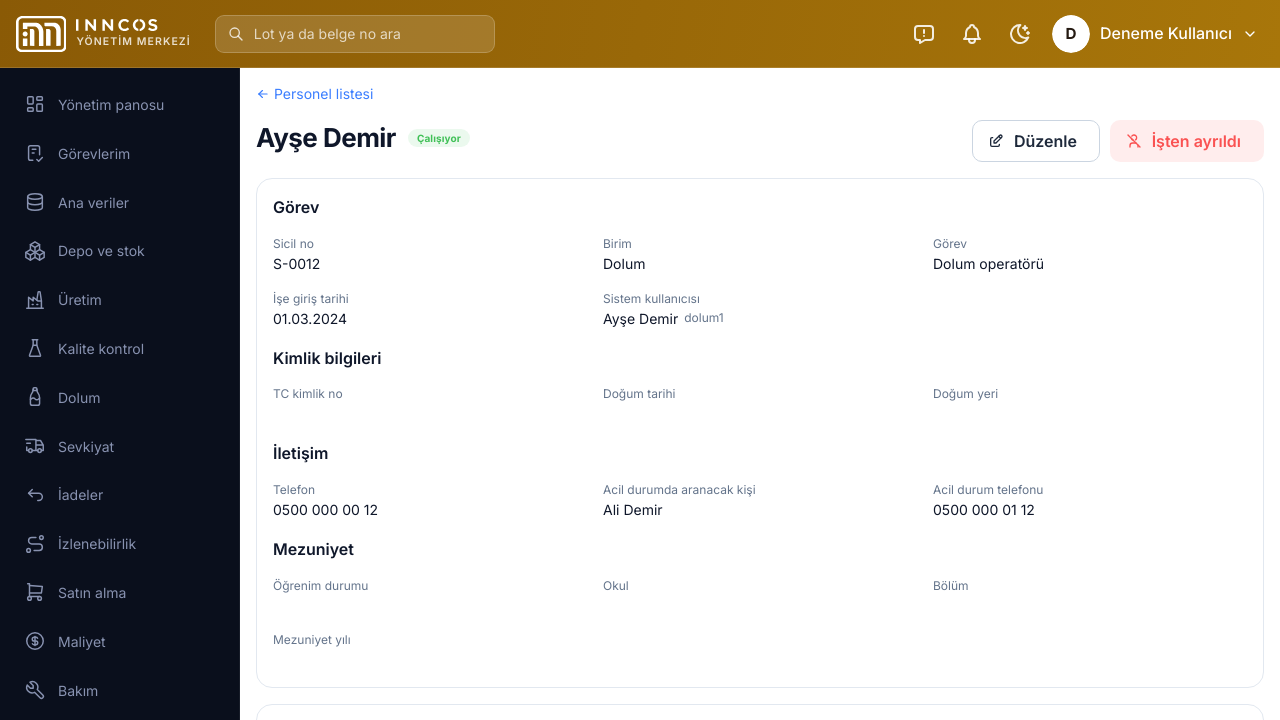
Scenario: personel kartı › işten ayrılışı kaydeder ve açık hesabı hatırlatır
Click the button "İşten ayrıldı" at (1187, 141), box [1110,120,1264,162]
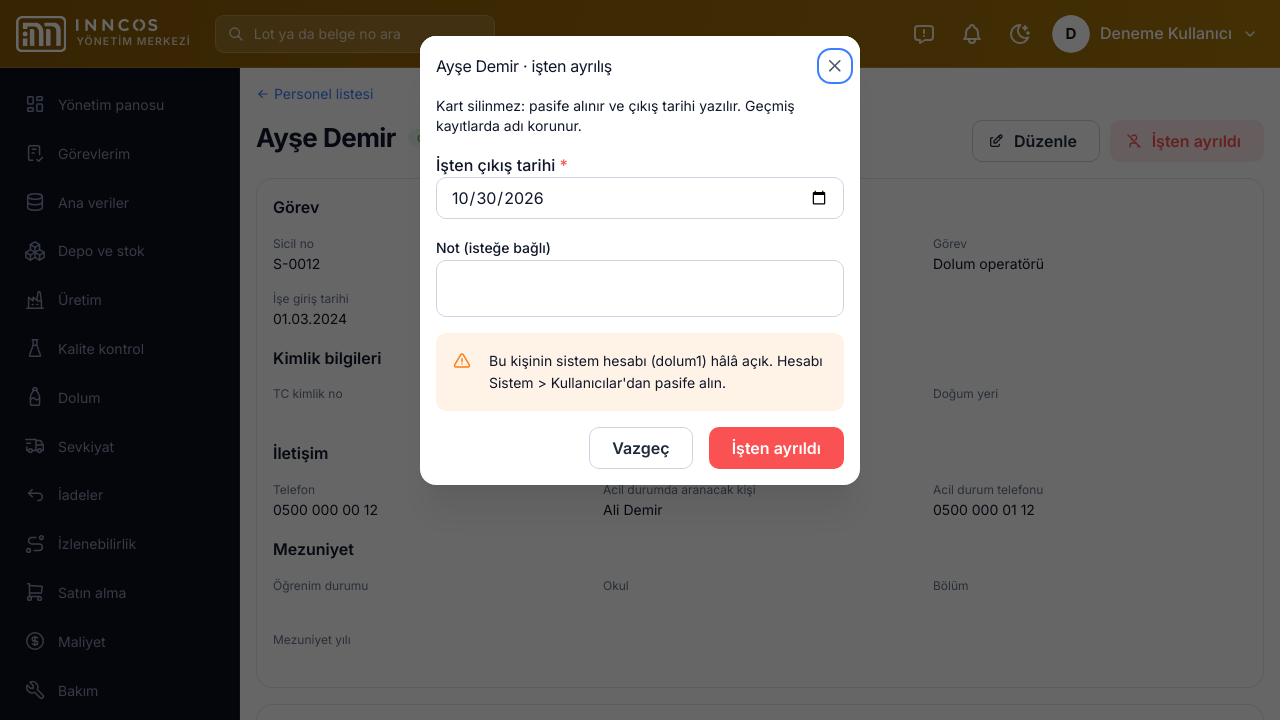
Expected: the text "sistem hesabı (dolum1) hâlâ açık" is shown, [489,352,823,391]
Type "2026-09-30" into the date field labelled "İşten çıkış tarihi *" at (640, 198), box [436,177,844,219]
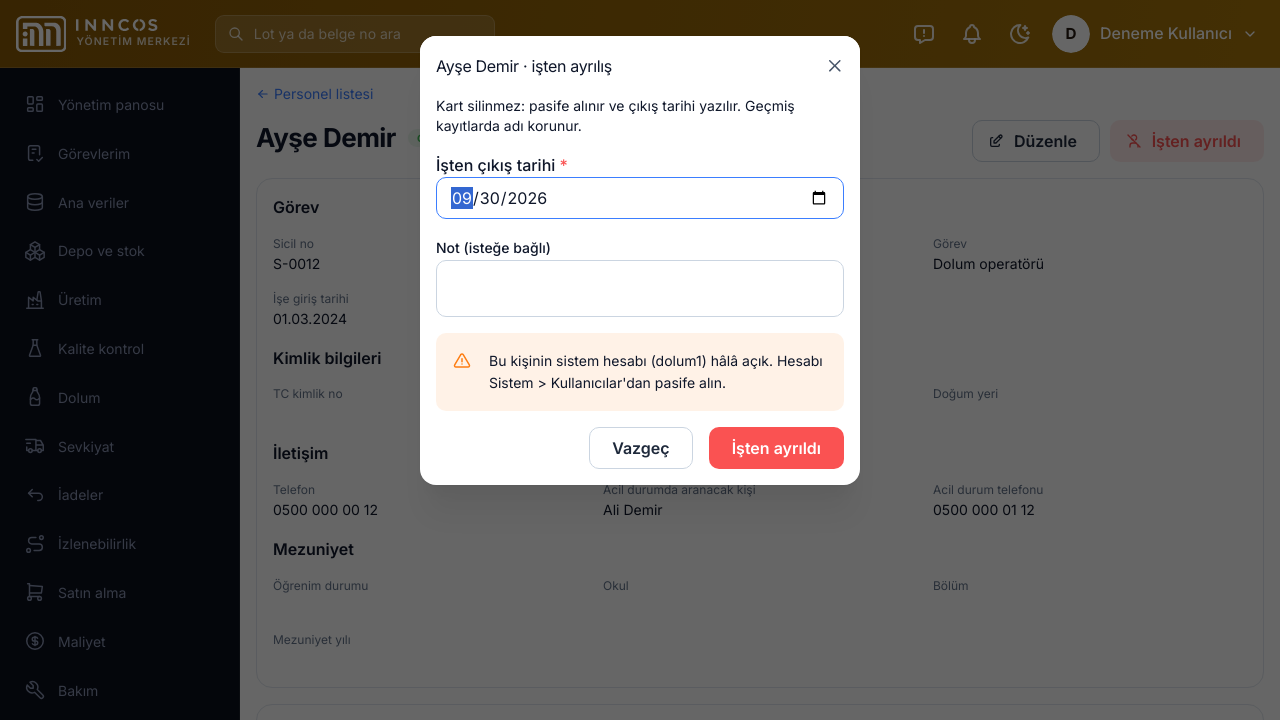
Click the button "İşten ayrıldı" at (776, 448), box [709,427,844,469]
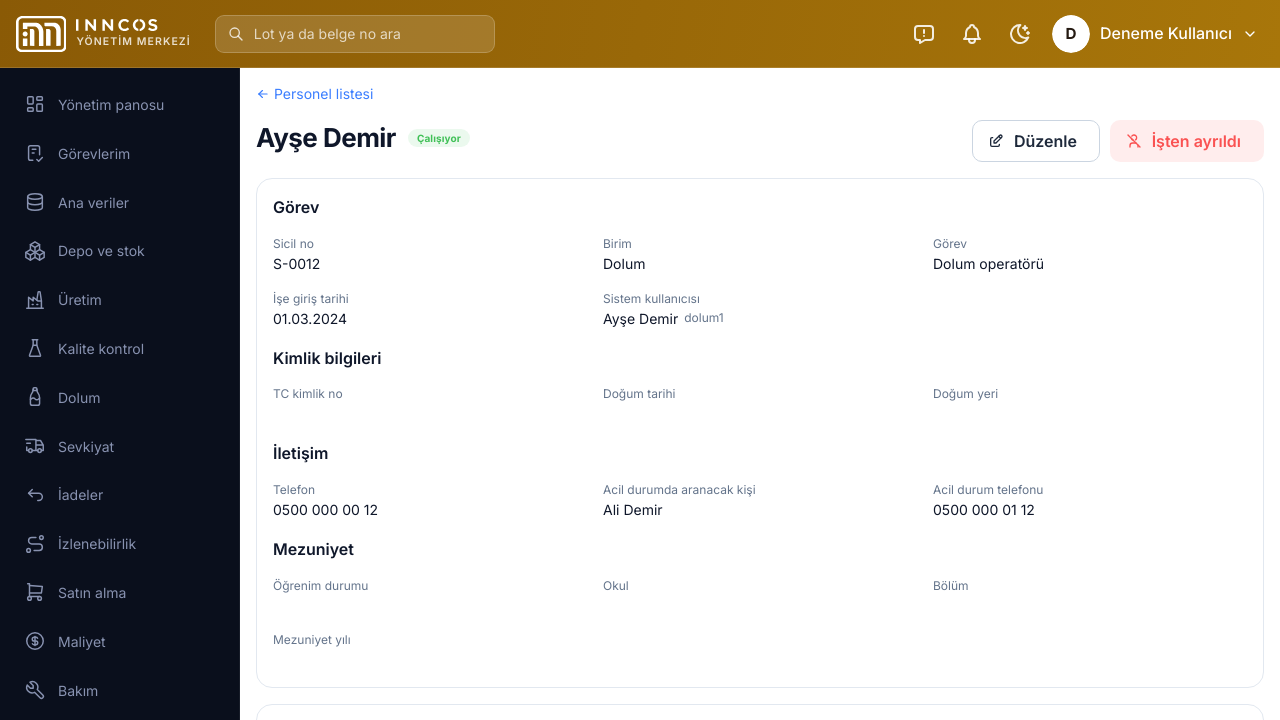
Expected: the dialog is gone
